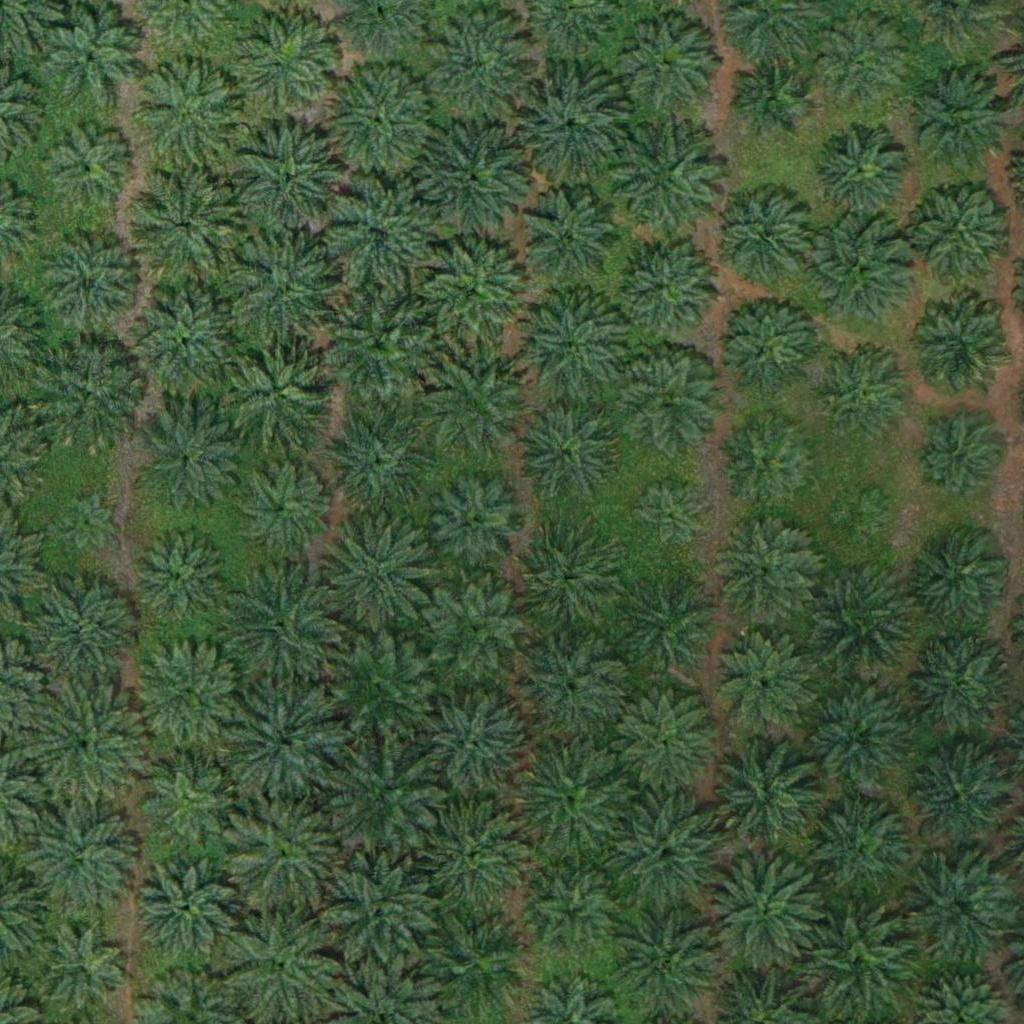Kelapa_Sawit: (903, 174, 1016, 288), (801, 213, 914, 327), (320, 627, 433, 741), (226, 563, 339, 677), (132, 407, 245, 521), (327, 737, 440, 851), (612, 903, 725, 1017), (133, 60, 246, 173), (125, 169, 238, 282), (425, 7, 538, 120), (417, 117, 530, 230), (902, 524, 1015, 637), (518, 292, 631, 405), (419, 238, 532, 351), (230, 237, 343, 350), (221, 336, 334, 449), (226, 685, 339, 798), (130, 288, 243, 401), (227, 798, 340, 911), (322, 857, 435, 970), (516, 736, 629, 849), (613, 796, 726, 909), (707, 857, 820, 970), (609, 7, 721, 121), (415, 688, 527, 802), (32, 342, 144, 456), (423, 796, 535, 910), (233, 124, 345, 237), (321, 67, 433, 180), (322, 179, 434, 292), (513, 60, 625, 173), (611, 125, 723, 238), (906, 68, 1018, 181), (903, 632, 1015, 745), (804, 561, 916, 674), (802, 683, 914, 796), (514, 633, 626, 746), (421, 349, 533, 462), (324, 289, 436, 402), (320, 401, 432, 514), (322, 513, 434, 626), (133, 640, 245, 753), (27, 574, 139, 687), (29, 687, 141, 800), (23, 805, 135, 918), (229, 910, 341, 1023), (710, 737, 822, 850), (800, 790, 912, 903), (799, 906, 911, 1019), (902, 853, 1014, 966), (38, 5, 138, 106), (234, 11, 334, 112), (519, 189, 619, 290), (818, 343, 918, 444), (716, 292, 816, 393), (720, 411, 820, 512), (712, 519, 812, 620), (712, 630, 812, 731), (616, 237, 716, 338), (617, 349, 717, 450), (619, 575, 719, 676), (617, 691, 717, 792), (517, 398, 617, 499), (514, 531, 614, 632), (427, 475, 527, 576), (427, 578, 527, 679), (138, 745, 238, 846), (134, 856, 234, 957), (908, 745, 1008, 846), (41, 234, 141, 334), (709, 188, 809, 288), (811, 11, 911, 111), (808, 123, 908, 223), (908, 298, 1008, 398), (231, 457, 331, 557), (129, 526, 229, 626), (527, 873, 615, 961), (47, 124, 134, 212), (914, 414, 1001, 502), (732, 57, 807, 133), (630, 481, 705, 556), (827, 485, 889, 548), (56, 490, 118, 553)
